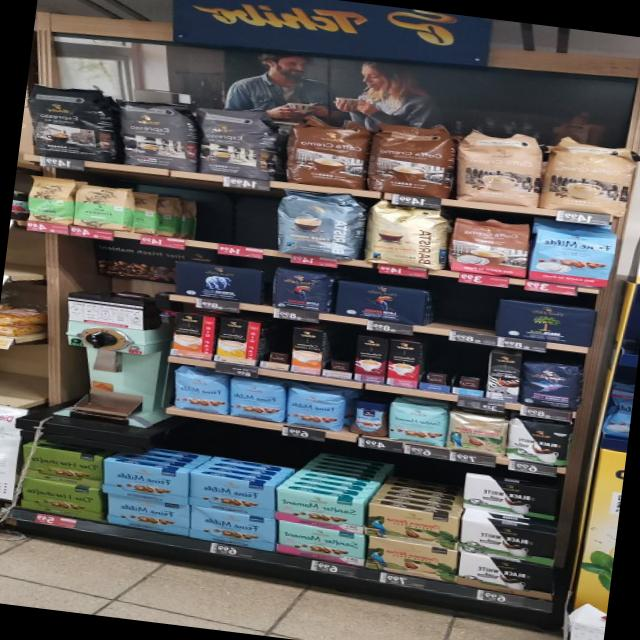AB Gemahlen: (170, 258, 265, 304)
Athiopien Bohne: (22, 174, 78, 226)
Athiopien Gemahlen: (71, 180, 133, 232)
BM Gemahlen: (495, 297, 599, 347)
BW Bohne: (504, 417, 571, 467)
BW Gemahlen: (457, 518, 559, 567), (456, 552, 557, 599), (459, 473, 557, 520)
Barista CB: (363, 201, 447, 270)
Barista CC: (271, 187, 361, 262)
C Fino Bohne: (518, 358, 582, 412)
CC Mild: (538, 136, 640, 219), (451, 124, 546, 208)
CC Vollmundig: (447, 216, 530, 278)
CC Vollmundig 36 Pads: (366, 116, 456, 200), (285, 115, 372, 191)
Colombia BB Bohne: (444, 410, 507, 458)
Colombia BB Gemahlen: (362, 502, 463, 550), (364, 538, 461, 582)
Empty Shelf: (128, 186, 272, 248), (423, 287, 498, 334), (420, 343, 456, 385), (453, 347, 488, 390), (259, 322, 292, 364), (324, 331, 356, 372)
Espresso Aromatisch: (114, 95, 198, 173)
Espresso M Art: (194, 102, 274, 180)
Espresso S Art: (22, 76, 112, 162)
FM 36 Pads: (529, 223, 617, 290)
FM Bohne: (284, 386, 346, 432), (226, 378, 286, 422), (170, 370, 227, 414)
FM Gemahlen: (99, 458, 188, 505), (187, 505, 277, 551), (188, 471, 274, 518), (105, 492, 187, 535)
FM Instant: (347, 398, 388, 437)
Herzhatfe Mundig: (21, 443, 101, 489), (19, 475, 99, 520)
LG Bohne: (266, 264, 334, 314)
LG Gemahlen: (334, 278, 429, 326)
SM Bohne: (386, 400, 448, 447)
SM Gemahlen: (275, 520, 366, 566), (275, 487, 363, 533)
Simo CCMild: (214, 316, 261, 366)
Simo CCVollmundig: (171, 312, 214, 359)
Simo CCVollmundig bigpack: (288, 326, 324, 374)
Simo Es Brazil: (386, 339, 422, 388)
Simo Es Caramel: (352, 336, 388, 384)
Simo Es Elegant: (484, 352, 522, 402)
